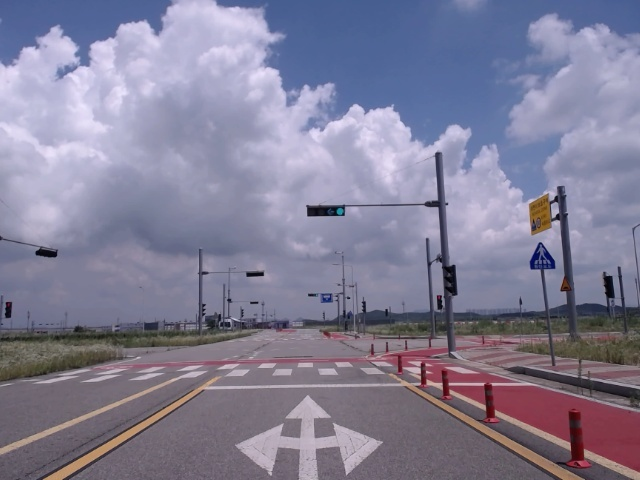all_green_4: (307, 205, 348, 216)
